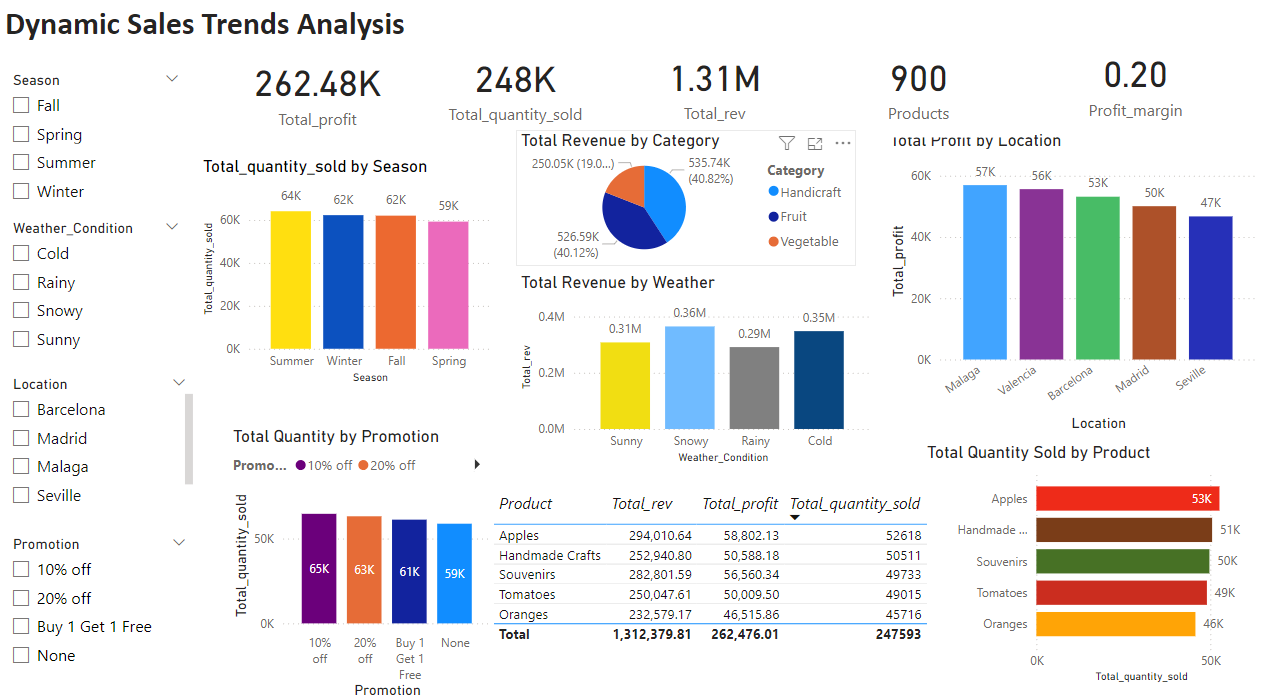

Layout of this report page (visuals, bound fields, positions):
{"tool":"powerbi","page":{"name":"Page 1","canvas":[1280,720],"ordinal":0},"visuals":[{"type":"slicer","fields":{"Values":["Dynamic_Sales_Trends_Analysis.Season"]},"box":[0,67.9,191.9,148.9],"z":0},{"type":"slicer","fields":{"Values":["Dynamic_Sales_Trends_Analysis.Weather_Condition"]},"box":[0,216.8,191.9,156.9],"z":1000},{"type":"slicer","fields":{"Values":["Dynamic_Sales_Trends_Analysis.Location"]},"box":[0,373.7,198.8,142.9],"z":2000},{"type":"slicer","fields":{"Values":["Dynamic_Sales_Trends_Analysis.Promotion"]},"box":[0,534.6,198.8,164.9],"z":3000},{"type":"columnChart","title":"Total Profit by Location","fields":{"Y":["Dynamic_Sales_Trends_Analysis.Total_profit"],"Category":["Dynamic_Sales_Trends_Analysis.Location"]},"box":[890.3,131.9,378.7,307.8],"z":4000},{"type":"card","fields":{"Values":["Dynamic_Sales_Trends_Analysis.Total_profit"]},"box":[228.8,41,179.9,101.9],"z":5000},{"type":"card","fields":{"Values":["Dynamic_Sales_Trends_Analysis.Total_rev"]},"box":[640.5,34,155.9,104.9],"z":6000},{"type":"card","fields":{"Values":["Dynamic_Sales_Trends_Analysis.Total_quantity_sold"]},"box":[429.7,34,177.9,106.9],"z":7000},{"type":"textbox","box":[1069,440,160,190],"z":8000},{"type":"textbox","box":[0,0,457.1,68.1],"z":9000},{"type":"card","fields":{"Values":["CountNonNull(Dynamic_Sales_Trends_Analysis.Product)"]},"box":[833.3,34,179.9,104.9],"z":10000},{"type":"lineStackedColumnComboChart","fields":{"Y":["Dynamic_Sales_Trends_Analysis.Total_quantity_sold"],"Category":["Dynamic_Sales_Trends_Analysis.Season"]},"box":[198.8,157.9,299.8,232.8],"z":11000},{"type":"pieChart","title":"Total Revenue by Category","fields":{"Y":["Dynamic_Sales_Trends_Analysis.Total_rev"],"Category":["Dynamic_Sales_Trends_Analysis.Category"]},"box":[518.6,131.9,341.7,136.9],"z":12000},{"type":"columnChart","title":"Total Quantity by Promotion","fields":{"Y":["Dynamic_Sales_Trends_Analysis.Total_quantity_sold"],"Series":["Dynamic_Sales_Trends_Analysis.Promotion"],"Category":["Dynamic_Sales_Trends_Analysis.Promotion"]},"box":[228.8,429.7,269.8,278.8],"z":13000},{"type":"clusteredColumnChart","title":"Total Revenue by Weather","fields":{"Category":["Dynamic_Sales_Trends_Analysis.Weather_Condition"],"Y":["Dynamic_Sales_Trends_Analysis.Total_rev"]},"box":[518.6,274.8,362.7,196.8],"z":14000},{"type":"clusteredBarChart","title":"Total Quantity Sold by Product","fields":{"Category":["Dynamic_Sales_Trends_Analysis.Product"],"Y":["Dynamic_Sales_Trends_Analysis.Total_quantity_sold"]},"box":[927.3,445.7,341.7,246.8],"z":15000},{"type":"card","fields":{"Values":["Dynamic_Sales_Trends_Analysis.Profit_margin"]},"box":[1055.2,34,173.9,97.9],"z":16000},{"type":"tableEx","fields":{"Values":["Dynamic_Sales_Trends_Analysis.Product","Dynamic_Sales_Trends_Analysis.Total_rev","Dynamic_Sales_Trends_Analysis.Total_profit","Dynamic_Sales_Trends_Analysis.Total_quantity_sold"]},"box":[490.6,489.6,468.6,217.8],"z":17000}]}

Visuals, with their boxes in screenshot pixels (x1, y1, x2, y2), scaled from the page's 1280x720 canvas onto the 1272x696 screenshot:
slicer - Dynamic_Sales_Trends_Analysis.Season: left=0, top=66, right=191, bottom=210
slicer - Dynamic_Sales_Trends_Analysis.Weather_Condition: left=0, top=210, right=191, bottom=361
slicer - Dynamic_Sales_Trends_Analysis.Location: left=0, top=361, right=198, bottom=499
slicer - Dynamic_Sales_Trends_Analysis.Promotion: left=0, top=517, right=198, bottom=676
"Total Profit by Location" columnChart: left=885, top=128, right=1261, bottom=425
card - Dynamic_Sales_Trends_Analysis.Total_profit: left=227, top=40, right=406, bottom=138
card - Dynamic_Sales_Trends_Analysis.Total_rev: left=636, top=33, right=791, bottom=134
card - Dynamic_Sales_Trends_Analysis.Total_quantity_sold: left=427, top=33, right=604, bottom=136
textbox: left=1062, top=425, right=1221, bottom=609
textbox: left=0, top=0, right=454, bottom=66
card - CountNonNull(Dynamic_Sales_Trends_Analysis.Product): left=828, top=33, right=1007, bottom=134
lineStackedColumnComboChart - Dynamic_Sales_Trends_Analysis.Total_quantity_sold x Dynamic_Sales_Trends_Analysis.Season: left=198, top=153, right=495, bottom=378
"Total Revenue by Category" pieChart: left=515, top=128, right=855, bottom=260
"Total Quantity by Promotion" columnChart: left=227, top=415, right=495, bottom=685
"Total Revenue by Weather" clusteredColumnChart: left=515, top=266, right=876, bottom=456
"Total Quantity Sold by Product" clusteredBarChart: left=922, top=431, right=1261, bottom=669
card - Dynamic_Sales_Trends_Analysis.Profit_margin: left=1049, top=33, right=1221, bottom=128
tableEx - Dynamic_Sales_Trends_Analysis.Product x Dynamic_Sales_Trends_Analysis.Total_rev: left=488, top=473, right=953, bottom=684
